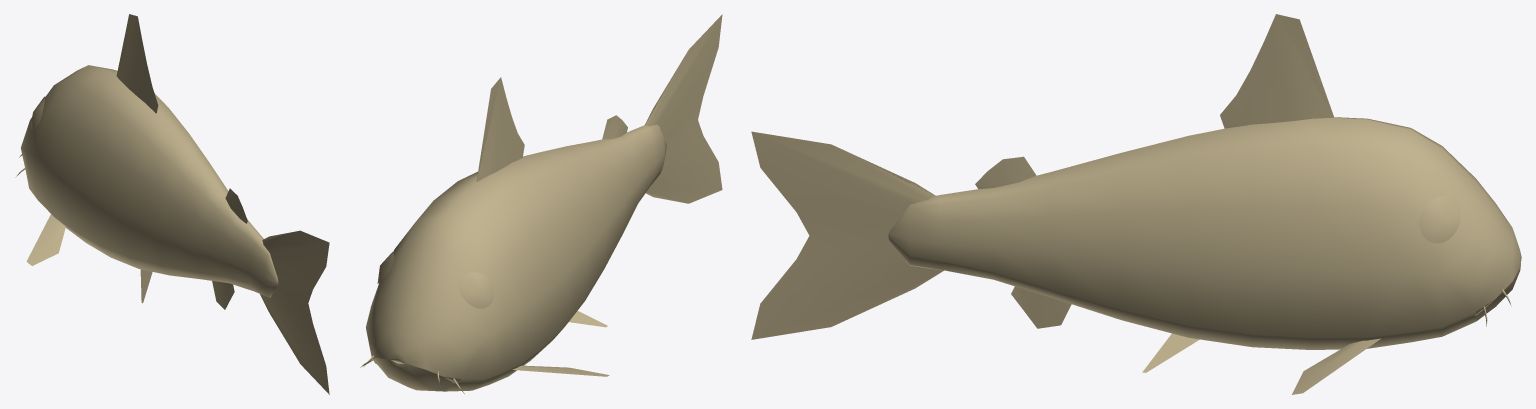
File: corydoras_game.glb
3 renders of one model, left to right at view 1: azimuth 30°, elevation 25°; view 2: azimuth 150°, elevation 25°; view 3: azimuth 270°, elevation 25°, orthographic. The views are drawn at different scales.
Visible parts, largest first — view 1: corydoras_game; view 2: corydoras_game; view 3: corydoras_game.
Boxes of the visible parts, x1,y1,x2,y2 form: corydoras_game: (15, 14, 329, 394); corydoras_game: (360, 14, 722, 393); corydoras_game: (751, 14, 1521, 394).
Bounding box in the file's own units: 0.0248 × 0.0282 × 0.0596.
